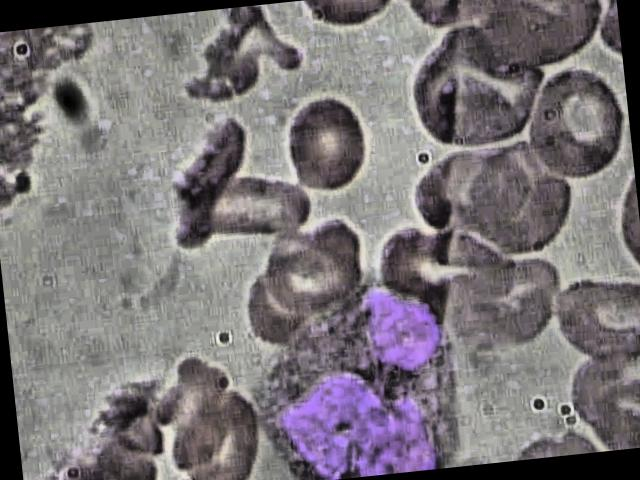WBC: (233, 270, 486, 480)
